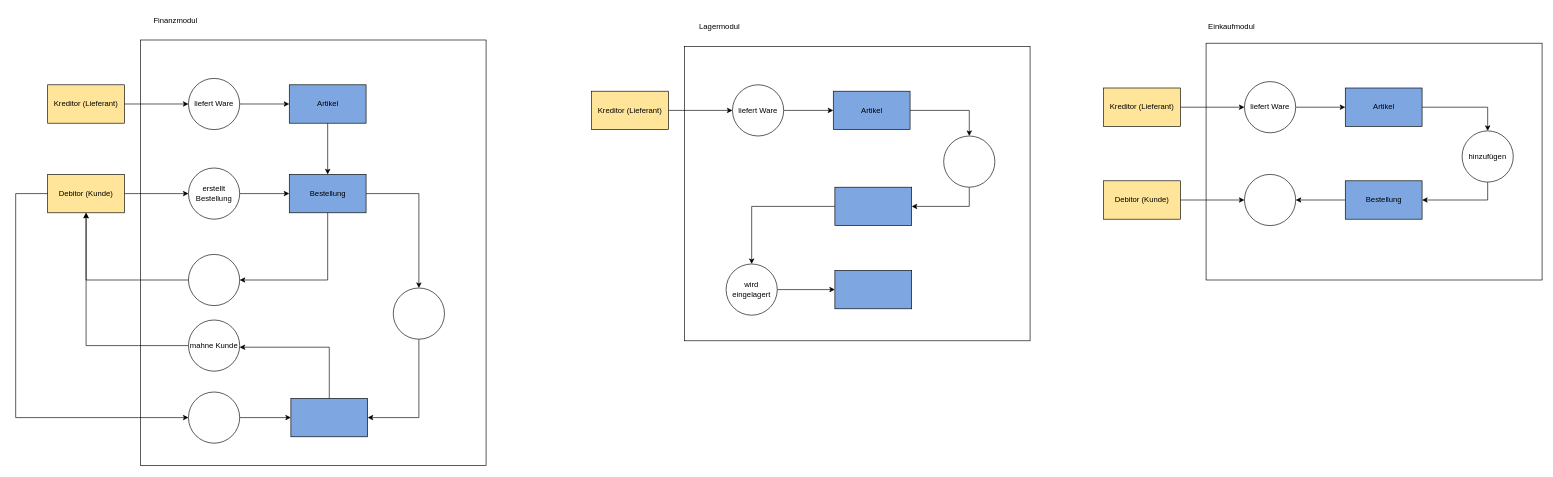
Some shapes in this 1553 by 477 pixel diagram are drawn without their labels. Here are the shapes that lost their labels. From the top down, the centre of each, then its label:
At point 969,161: "Menge bestimmen".
At point 873,206: "Mengenliste".
At point 1270,200: "tätigt Bestellung".
At point 214,280: "erhält Artikel".
At point 873,289: "Lager".
At point 418,313: "erstelle Mahnung".
At point 214,417: "tätigt Zahlung".
At point 329,417: "Zahlung".
